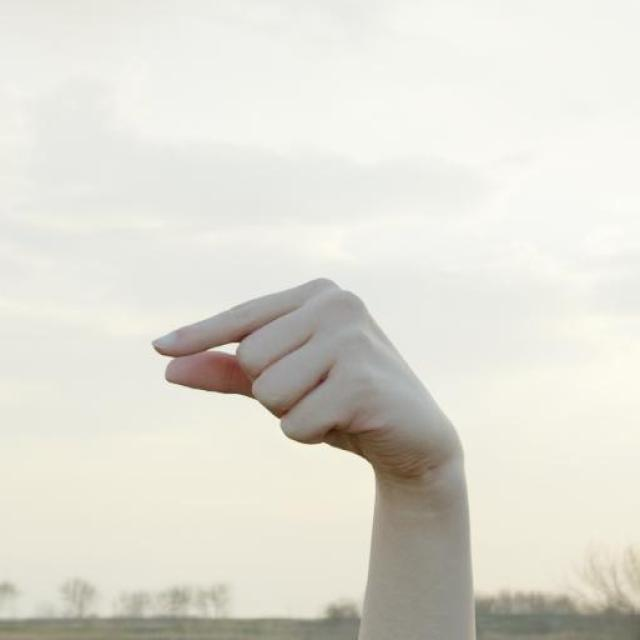G: (146, 264, 475, 475)
